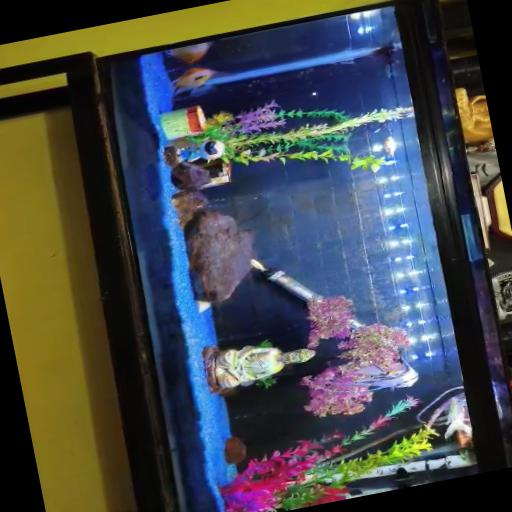Fish: (354, 362, 418, 390), (171, 67, 217, 96), (444, 397, 471, 445), (164, 42, 211, 64), (382, 137, 396, 157)
